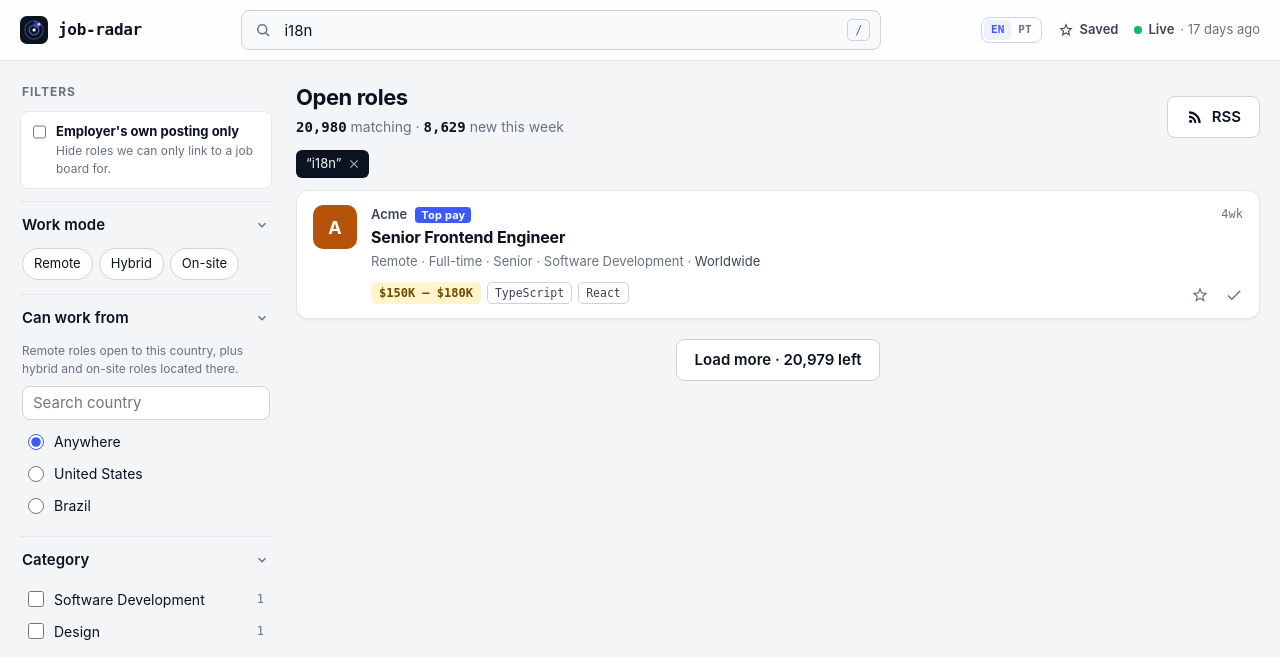
Test: Portuguese UI › switches language from the top bar and remembers the choice
Expected: the text "20,980 matching · 8,629 new this week" is shown, left=296, top=116, right=564, bottom=138
Click the button "PT" at (1025, 30), box left=1011, top=20, right=1039, bottom=40
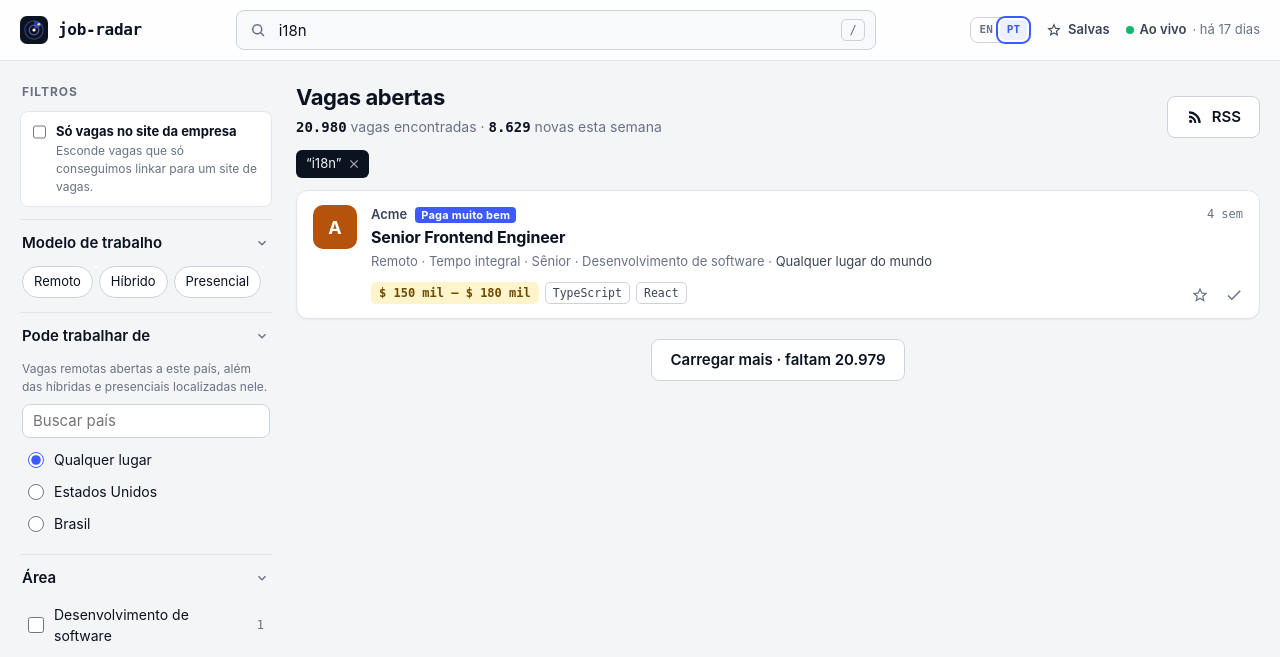
Expected: the heading "Vagas abertas" is shown, left=296, top=84, right=445, bottom=110
Expected: the text "20.980 vagas encontradas · 8.629 novas esta semana" is shown, left=296, top=116, right=662, bottom=138
